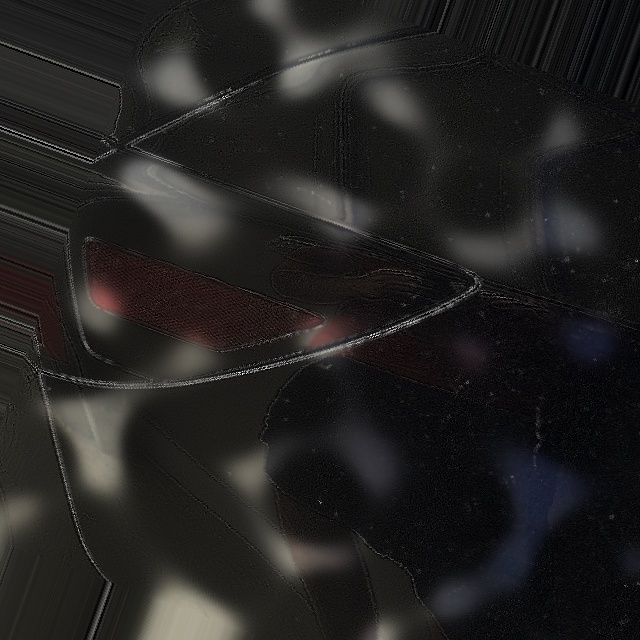reflector: (63, 230, 325, 383)
